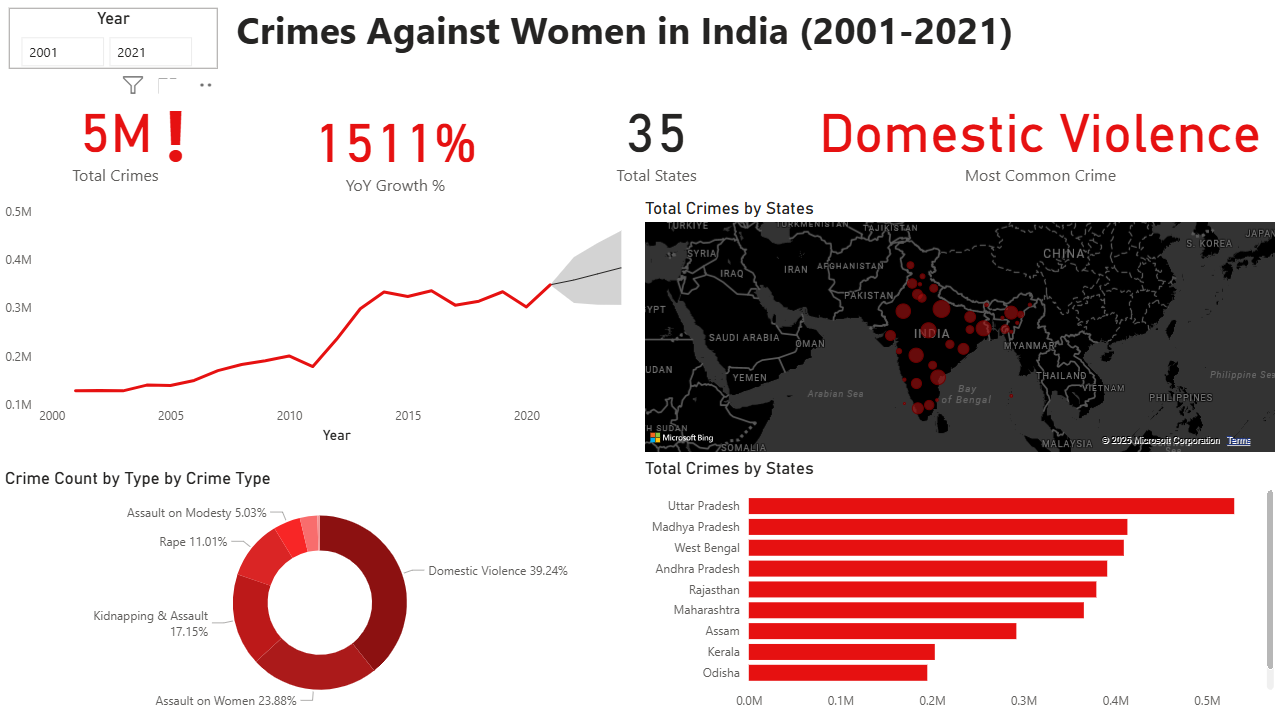

Layout of this report page (visuals, bound fields, positions):
{"tool":"powerbi","page":{"name":"CRIMES AGAINST WOMEN IN INDIA","canvas":[1280,720],"ordinal":0},"visuals":[{"type":"textbox","box":[231.2,0,787.5,70],"z":0},{"type":"card","fields":{"Values":["1.Measures.Total Crimes"]},"box":[0,70,231.2,135],"z":1000},{"type":"card","fields":{"Values":["1.Measures.YoY Growth %"]},"box":[270.4,70,231.2,135],"z":2000},{"type":"card","fields":{"Values":["1.Measures.Total States"]},"box":[540.8,70,231.2,135],"z":3000},{"type":"card","fields":{"Values":["1.Measures.Most Common Crime"]},"box":[801.2,70,478.8,135],"z":4000},{"type":"lineChart","fields":{"Category":["Crimes On Women Data_ BI Analysis.Year"],"Y":["1.Measures.Total Crimes"]},"box":[0,199.3,639.5,250.7],"z":5000},{"type":"map","fields":{"Category":["State Table.States"],"Size":["1.Measures.Total Crimes"]},"box":[639.5,199.3,640.8,259.2],"z":6000},{"type":"donutChart","fields":{"Y":["1.Measures.Crime Count by Type"],"Category":["Crime Types.Crime Type"]},"box":[0,469,640,251],"z":7000},{"type":"barChart","fields":{"Category":["State Table.States"],"Y":["1.Measures.Total Crimes"]},"box":[640,458.8,640,261.2],"z":8000},{"type":"card","fields":{"Values":["1.Measures.YoY Growth %"]},"box":[280.4,80,231.2,135],"z":9000},{"type":"slicer","title":"Year","fields":{"Values":["Crimes On Women.Year"]},"box":[8.6,8.6,209.1,61.1],"z":10000},{"type":"textbox","box":[159,79.5,40.4,106.4],"z":11000}]}

Visuals, with their boxes in screenshot pixels (x1, y1, x2, y2), scaled from the page's 1280x720 canvas onto the 1277x718 screenshot:
textbox: (231,0,1016,70)
card - 1.Measures.Total Crimes: (0,70,231,204)
card - 1.Measures.YoY Growth %: (270,70,500,204)
card - 1.Measures.Total States: (540,70,770,204)
card - 1.Measures.Most Common Crime: (799,70,1276,204)
lineChart - Crimes On Women Data_ BI Analysis.Year x 1.Measures.Total Crimes: (0,199,638,449)
map - State Table.States x 1.Measures.Total Crimes: (638,199,1276,457)
donutChart - 1.Measures.Crime Count by Type x Crime Types.Crime Type: (0,468,638,717)
barChart - State Table.States x 1.Measures.Total Crimes: (638,458,1276,717)
card - 1.Measures.YoY Growth %: (280,80,510,214)
"Year" slicer: (9,9,217,70)
textbox: (159,79,199,185)
